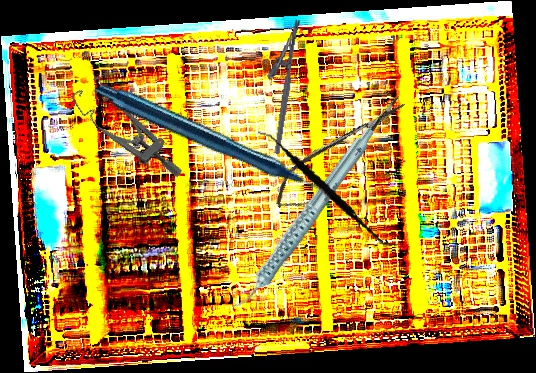Handpiece: (91, 14, 334, 279), (198, 124, 406, 313)
Micro Scissor: (264, 88, 417, 220)
Needle Holder: (255, 16, 302, 155)
Spatula Surgical: (242, 129, 413, 248)
Speculum: (68, 64, 185, 202)
